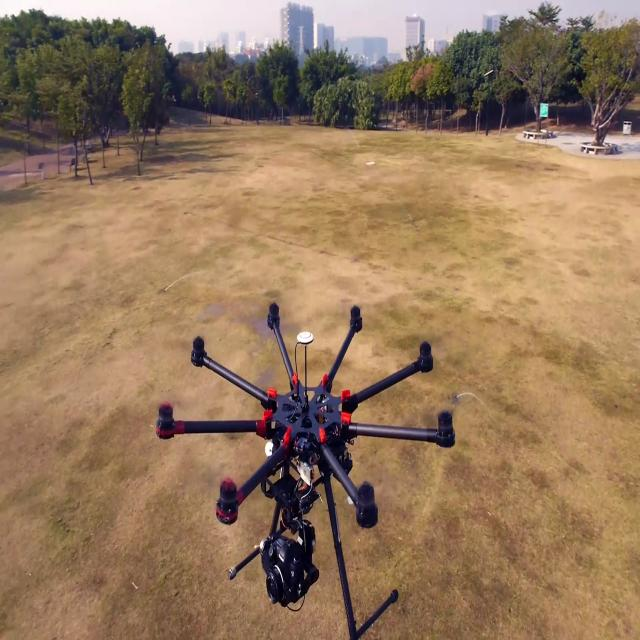drone: (152, 271, 471, 640)
